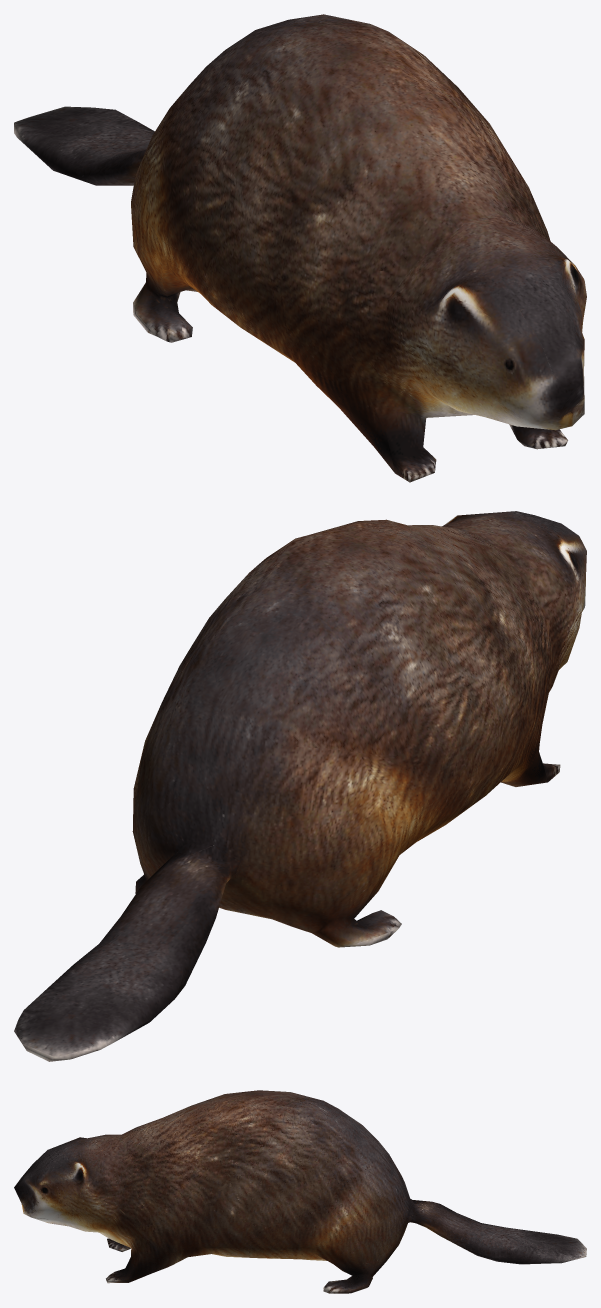
The model's file is uploads_files_5014821_Beaver_Low_Poly.fbx.
3 renders of one model, top to bottom at view 1: azimuth 30°, elevation 25°; view 2: azimuth 150°, elevation 25°; view 3: azimuth 270°, elevation 25°, orthographic. The views are drawn at different scales.
Parts seen in each view (by area): view 1: Beaver_Low_Poly; view 2: Beaver_Low_Poly; view 3: Beaver_Low_Poly.
Boxes of the visible parts, <box> form: Beaver_Low_Poly: <box>14,14,586,482</box>; Beaver_Low_Poly: <box>14,511,586,1061</box>; Beaver_Low_Poly: <box>14,1090,586,1293</box>.
Size of the model in its own units: 27.19 by 30.24 by 92.53.
